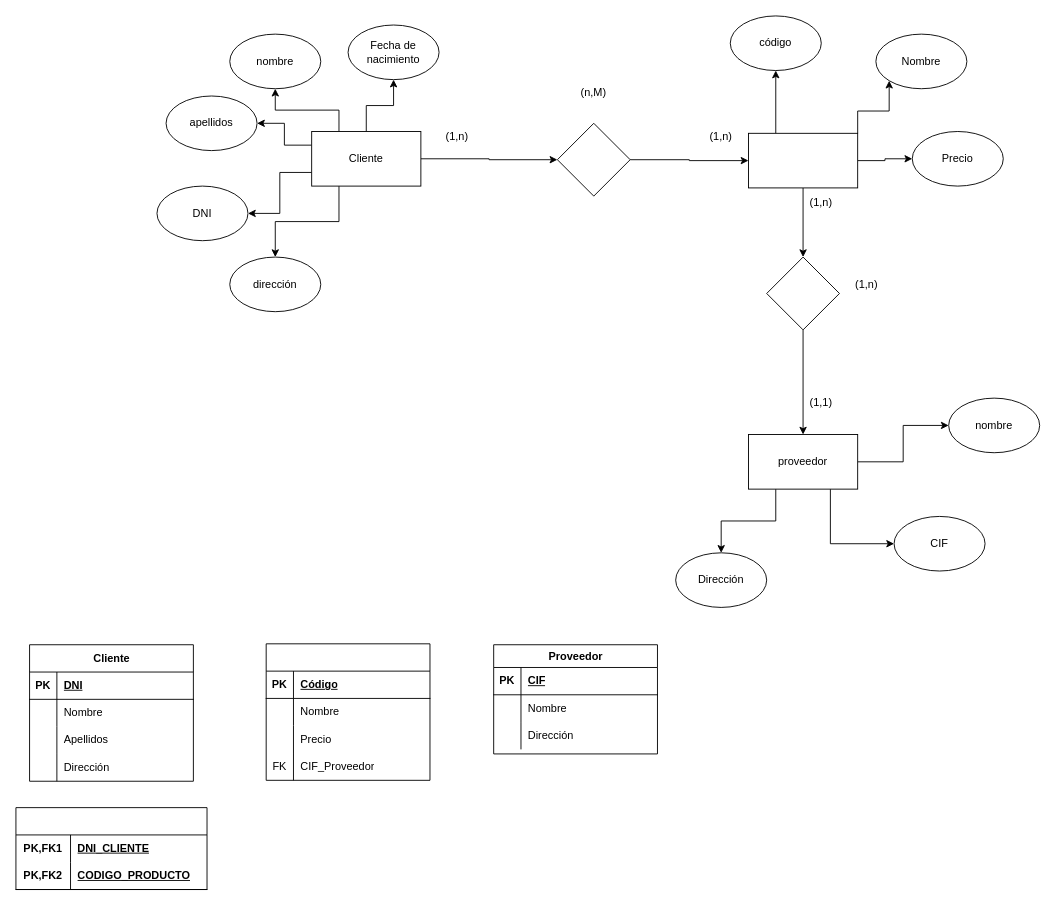
Image size: 1056x905. Some labels were removed from this diagram. The shapes that lost their labels are listed below. From the top down, each one's box as (x1, y1, x2, y2) in pixels, then its label:
(556, 122, 630, 196): Compra
(748, 132, 858, 188): Productos
(766, 256, 839, 330): suministra
(265, 643, 430, 780): Producto
(15, 807, 207, 890): Compras
